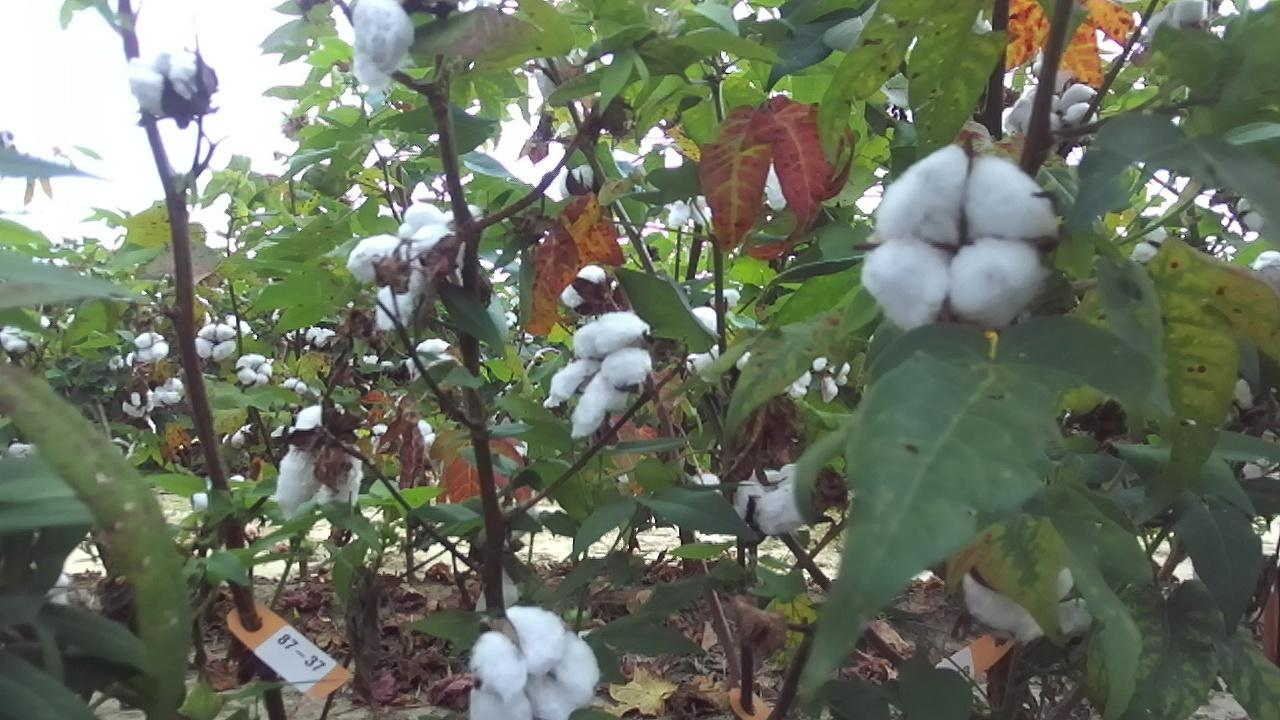cotton_ready: (862, 143, 1056, 337), (544, 310, 655, 442), (473, 605, 600, 720), (347, 202, 456, 332), (961, 560, 1100, 649), (275, 402, 364, 526), (126, 41, 214, 126), (351, 0, 414, 96), (735, 460, 806, 535)
